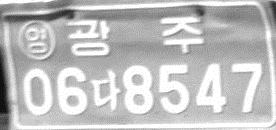0: (21, 67, 53, 117)
4: (195, 63, 226, 113)
5: (157, 63, 191, 115)
6: (55, 66, 89, 115)
7: (230, 63, 263, 113)
8: (121, 64, 154, 114)
광주_D: (66, 16, 205, 57)
다: (89, 68, 121, 112)
영: (17, 18, 56, 60)
